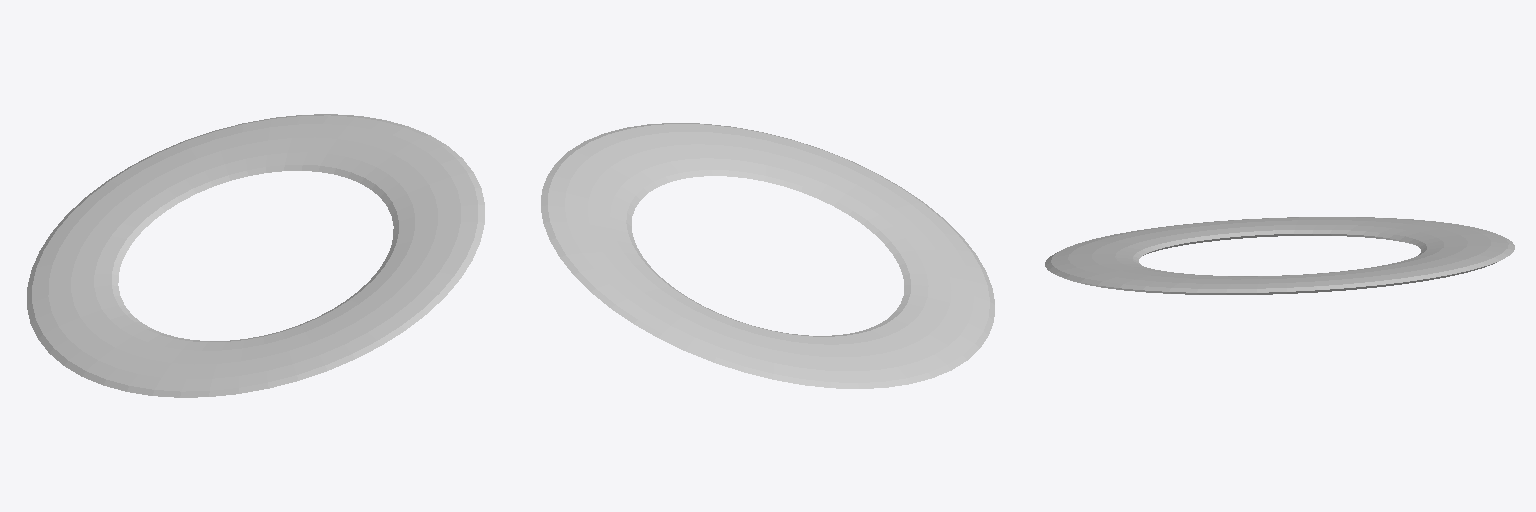
Rendered from rings.obj.
3 renders of one model, left to right at view 1: azimuth 30°, elevation 25°; view 2: azimuth 150°, elevation 25°; view 3: azimuth 270°, elevation 25°, orthographic.
Visible parts, largest first — view 1: Torus; view 2: Torus; view 3: Torus.
Boxes of the visible parts, x1=… form: Torus: x1=27, y1=114, x2=484, y2=397; Torus: x1=541, y1=123, x2=994, y2=388; Torus: x1=1045, y1=217, x2=1514, y2=294.
Bounding box in the file's own units: 5.5 × 1.64 × 5.72.